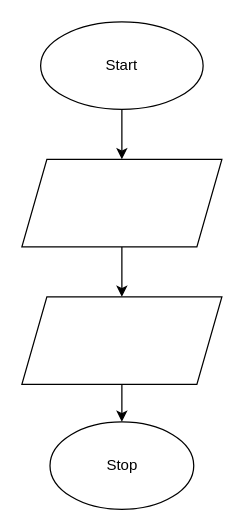
The diagram is 244 pixels wide and 531 high, and some of its shapes have lost their labels. The centre of each missing label's shape, as x and y in pixels:
console.log("Done!"): point (121, 340)
console.log("Hello, World"): point (121, 202)
